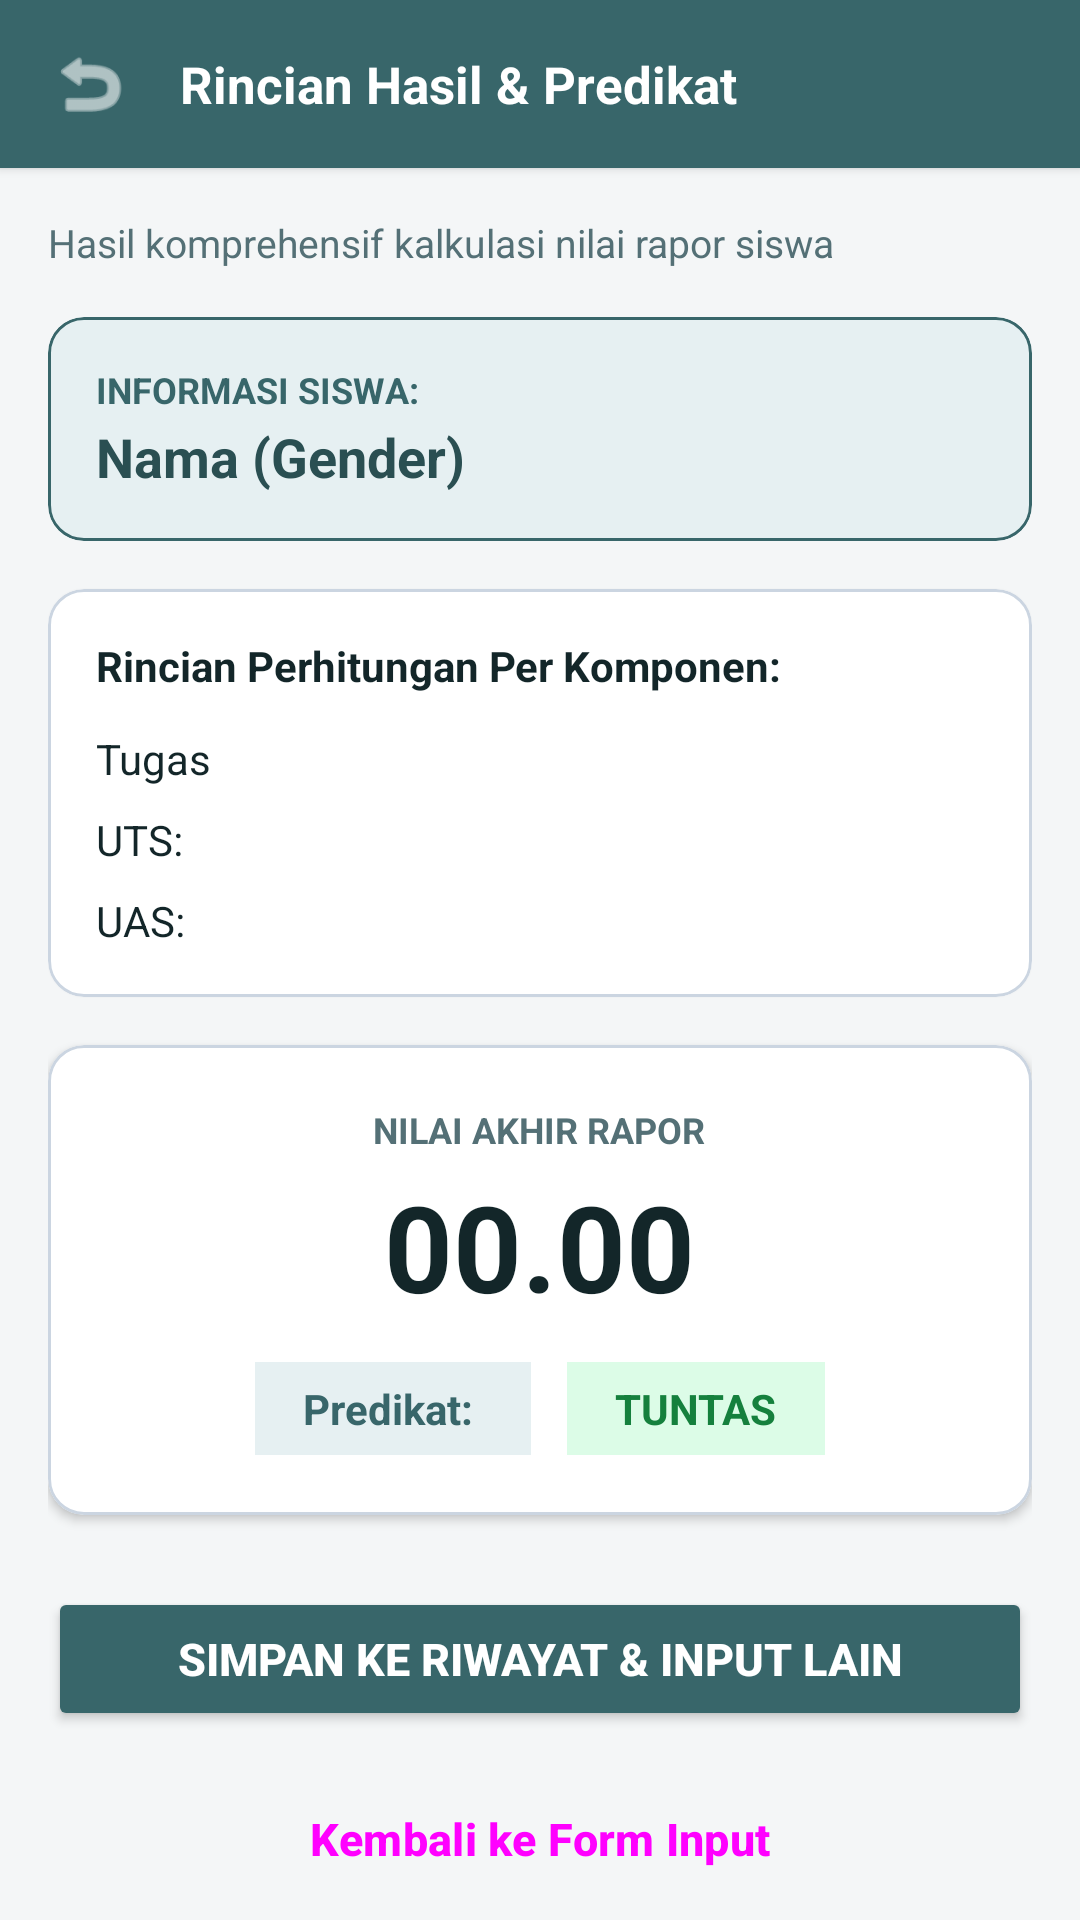

Point at icon controls on the screen. Image size 1080*1920, points as (x=x, y=y).
Kembali: (x=91, y=84)
